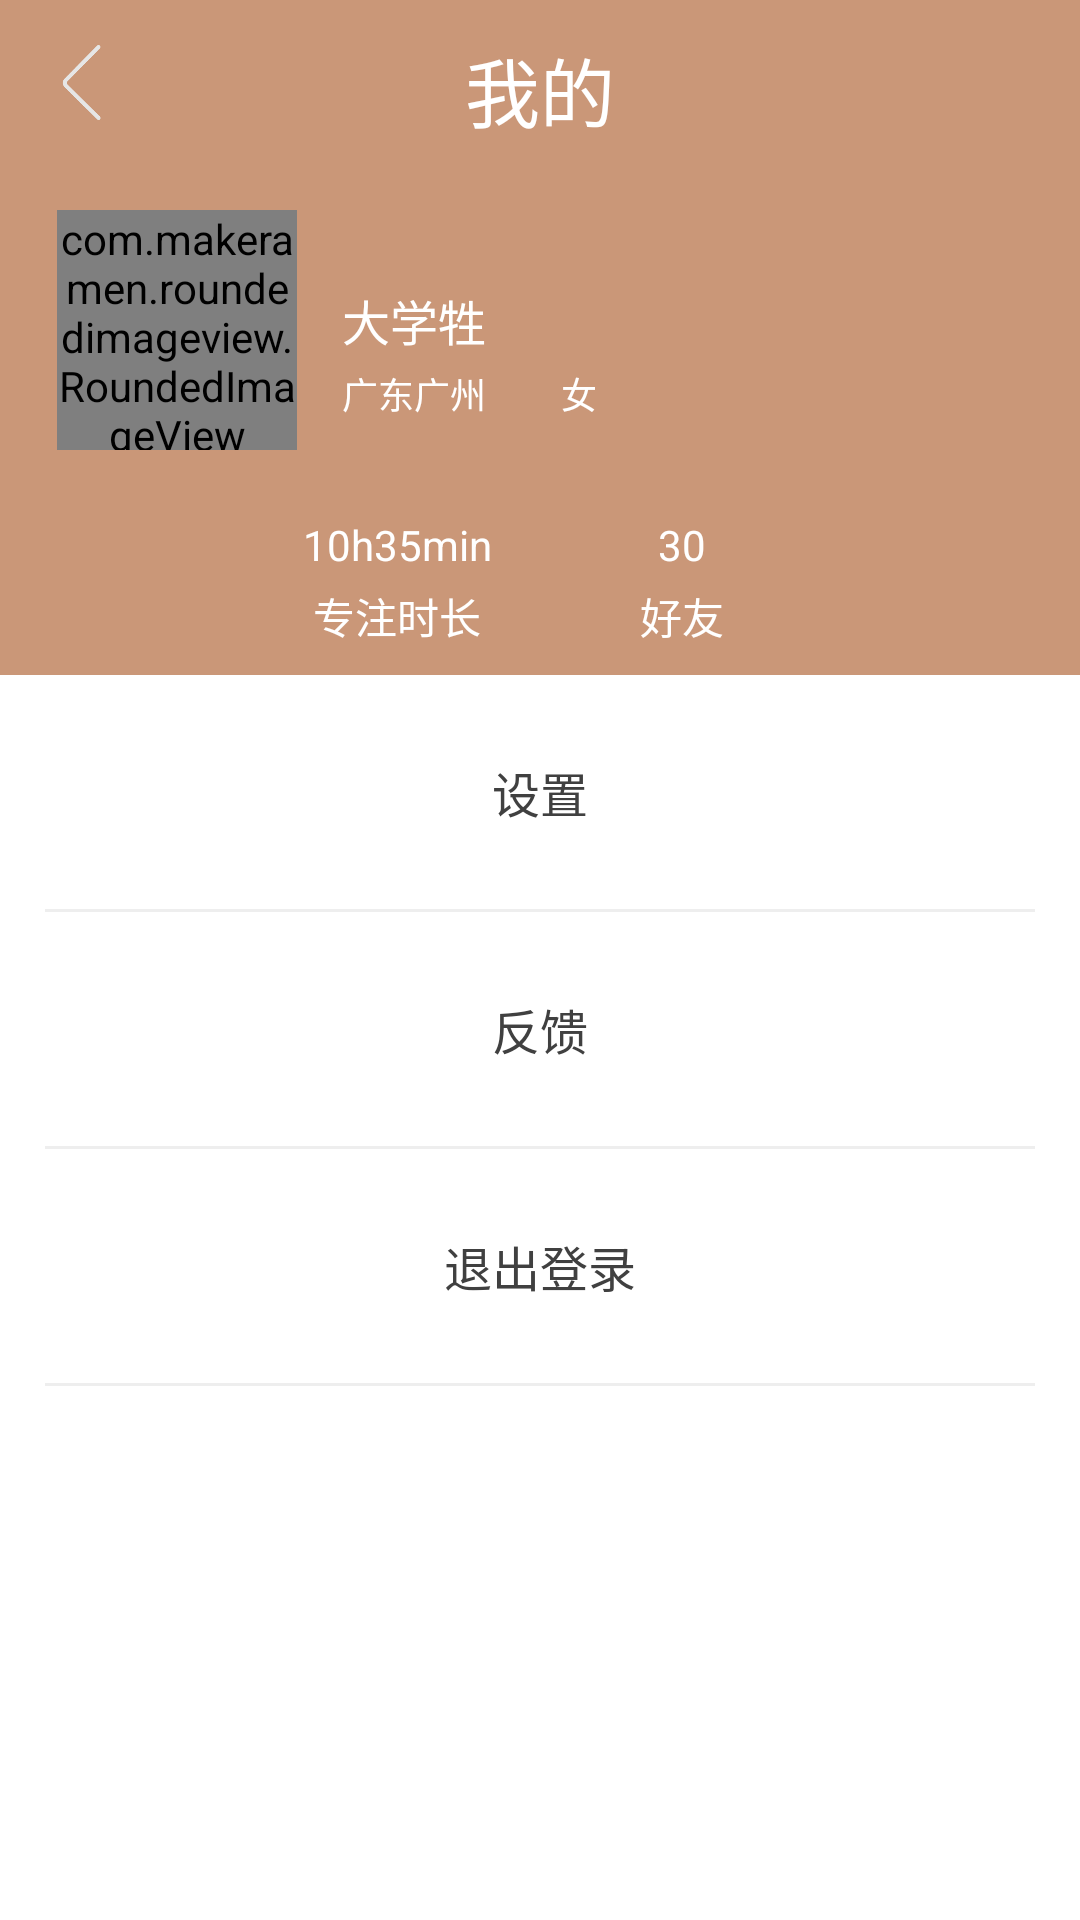

Where icons sit on this 1080 x 1920 app screen, as (x1, y1, x2, y2):
back: (63, 45, 101, 120)
